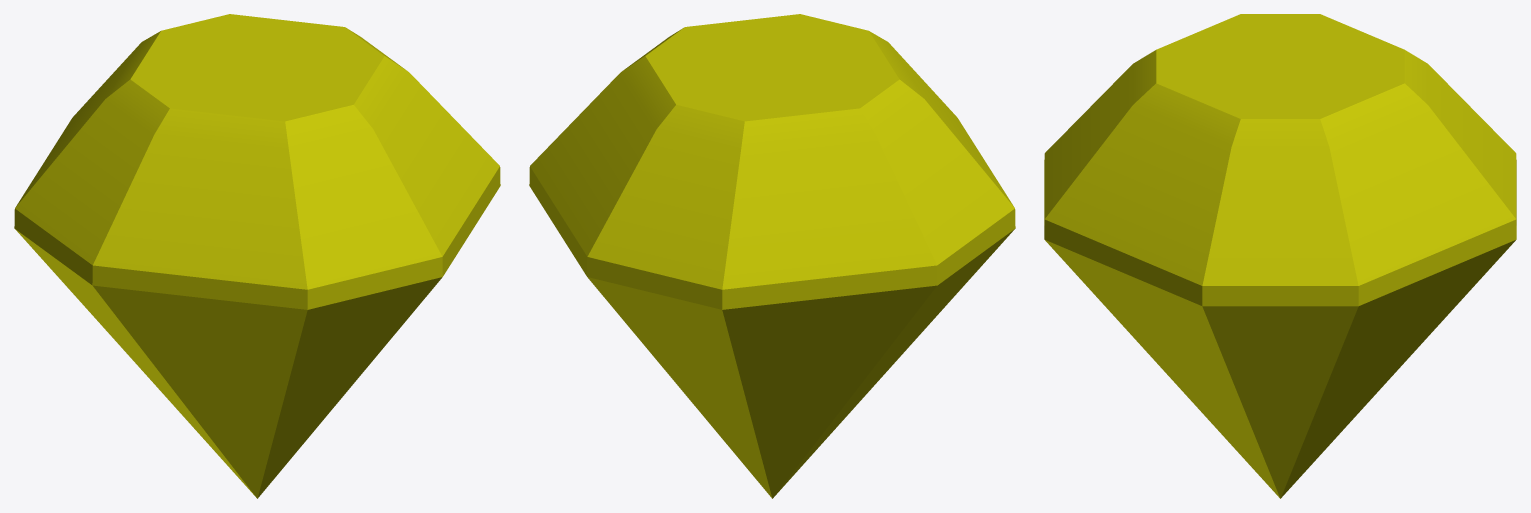
File: Gem_Yellow.fbx
3 views of the same model, side by side, from view 1: azimuth 30°, elevation 25°; view 2: azimuth 150°, elevation 25°; view 3: azimuth 270°, elevation 25° (orthographic).
Parts seen in each view (by area): view 1: Gem_Yellow; view 2: Gem_Yellow; view 3: Gem_Yellow.
Part boxes in pixels (x1,y1,x2,y2): Gem_Yellow: [14, 14, 500, 498]; Gem_Yellow: [529, 14, 1015, 498]; Gem_Yellow: [1044, 14, 1516, 498].
Size of the model in its own units: 150 by 151 by 150.
